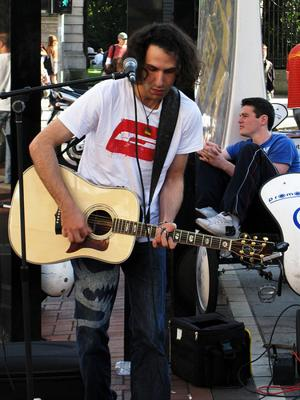person: (28, 21, 205, 398)
